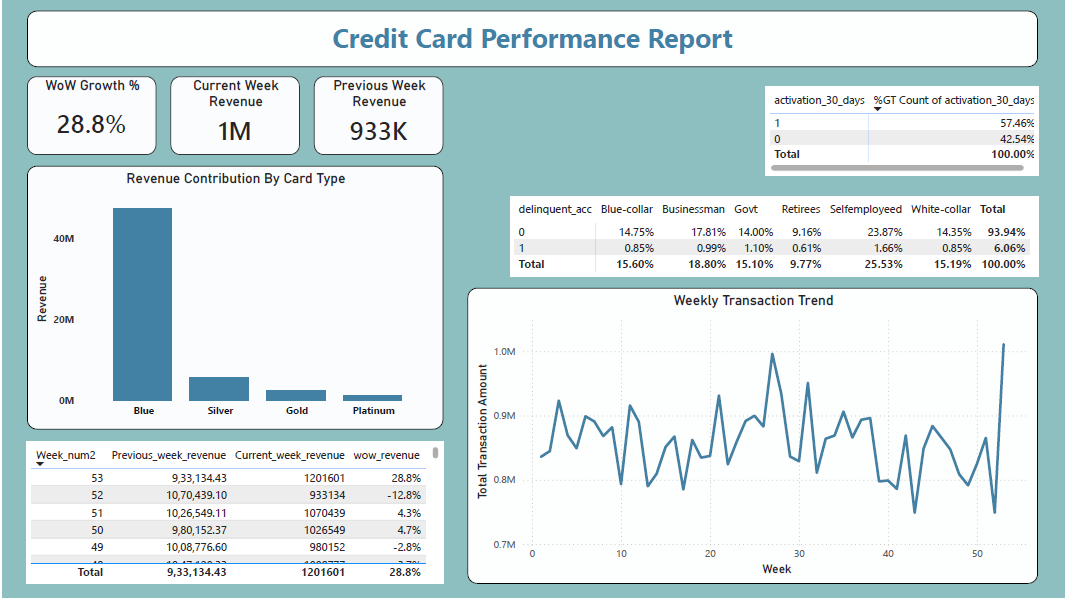

The dashboard page shown, as its layout file describes it:
{"tool":"powerbi","page":{"name":"CC Performance","canvas":[1280,720],"ordinal":0},"visuals":[{"type":"clusteredColumnChart","title":" Revenue Contribution By Card Type","fields":{"Y":["Sum(public cc_detail.Revenue)"],"Category":["public cc_detail.card_category"]},"box":[29.3,200.5,502,317.6],"z":0},{"type":"tableEx","fields":{"Values":["public cc_detail.Week_num2","public cc_detail.Previous_week_revenue","public cc_detail.Current_week_revenue","public cc_detail.wow_revenue"]},"box":[29.3,532.7,502,171.2],"z":1000},{"type":"lineChart","title":"Weekly Transaction Trend","fields":{"Category":["public cc_detail.Week_num2"],"Y":["Sum(public cc_detail.total_trans_amt)"]},"box":[560.5,346.8,687.8,357.1],"z":2000},{"type":"pivotTable","fields":{"Rows":["public cc_detail.delinquent_acc"],"Values":["Min(public cc_detail.delinquent_acc)"],"Columns":["public cust_detail.customer_job"]},"box":[611.7,237.1,636.6,96.6],"z":3000},{"type":"pivotTable","fields":{"Rows":["public cc_detail.activation_30_days"],"Values":["Sum(public cc_detail.activation_30_days)"]},"box":[920.2,105.1,328.3,106.6],"z":4000},{"type":"textbox","box":[28.8,13,1219.7,67.7],"z":5000},{"type":"cardVisual","title":"WoW Growth %","fields":{"Data":["public cc_detail.wow_revenue"]},"box":[29.3,92.2,156,95.1],"z":6000},{"type":"cardVisual","title":"Current Week Revenue","fields":{"Data":["public cc_detail.Current_week_revenue"]},"box":[202,92.2,156,95.1],"z":7000},{"type":"cardVisual","title":"Previous Week Revenue","fields":{"Data":["public cc_detail.Previous_week_revenue"]},"box":[374.6,92.2,156.6,95.1],"z":8000}]}

Visuals, with their boxes in screenshot pixels (x1, y1, x2, y2), scaled from the page's 1280x720 canvas onto the 1066x600 screenshot:
" Revenue Contribution By Card Type" clusteredColumnChart: {"x1": 24, "y1": 167, "x2": 442, "y2": 432}
tableEx - public cc_detail.Week_num2 x public cc_detail.Previous_week_revenue: {"x1": 24, "y1": 444, "x2": 442, "y2": 587}
"Weekly Transaction Trend" lineChart: {"x1": 467, "y1": 289, "x2": 1040, "y2": 587}
pivotTable - public cc_detail.delinquent_acc x Min(public cc_detail.delinquent_acc): {"x1": 509, "y1": 198, "x2": 1040, "y2": 278}
pivotTable - public cc_detail.activation_30_days x Sum(public cc_detail.activation_30_days): {"x1": 766, "y1": 88, "x2": 1040, "y2": 176}
textbox: {"x1": 24, "y1": 11, "x2": 1040, "y2": 67}
"WoW Growth %" cardVisual: {"x1": 24, "y1": 77, "x2": 154, "y2": 156}
"Current Week Revenue" cardVisual: {"x1": 168, "y1": 77, "x2": 298, "y2": 156}
"Previous Week Revenue" cardVisual: {"x1": 312, "y1": 77, "x2": 442, "y2": 156}
